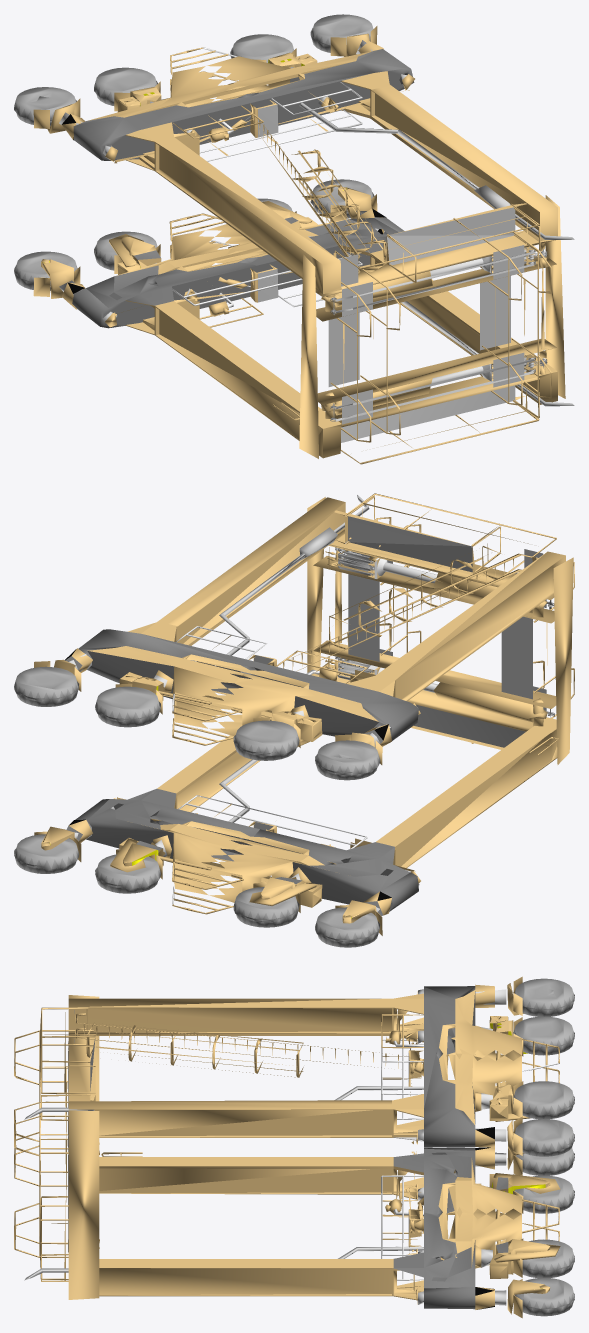
File: reducedAUTOSTRAD.fbx
3 views of the same model, one above another, from view 1: azimuth 30°, elevation 25°; view 2: azimuth 150°, elevation 25°; view 3: azimuth 270°, elevation 25° (orthographic). The views are drawn at different scales.
Visible parts, largest first — view 1: Mesh1 Simplex_140_straight_2_1 Moving_Chain1 Moving_Chain_1_; view 2: Mesh1 Simplex_140_straight_2_1 Moving_Chain1 Moving_Chain_1_; view 3: Mesh1 Simplex_140_straight_2_1 Moving_Chain1 Moving_Chain_1_.
Boxes of the visible parts, x1=… form: Mesh1 Simplex_140_straight_2_1 Moving_Chain1 Moving_Chain_1_: x1=14, y1=14, x2=574, y2=464; Mesh1 Simplex_140_straight_2_1 Moving_Chain1 Moving_Chain_1_: x1=14, y1=493, x2=574, y2=947; Mesh1 Simplex_140_straight_2_1 Moving_Chain1 Moving_Chain_1_: x1=14, y1=976, x2=574, y2=1318.
Bounding box in the file's own units: 915 × 494 × 1305.
